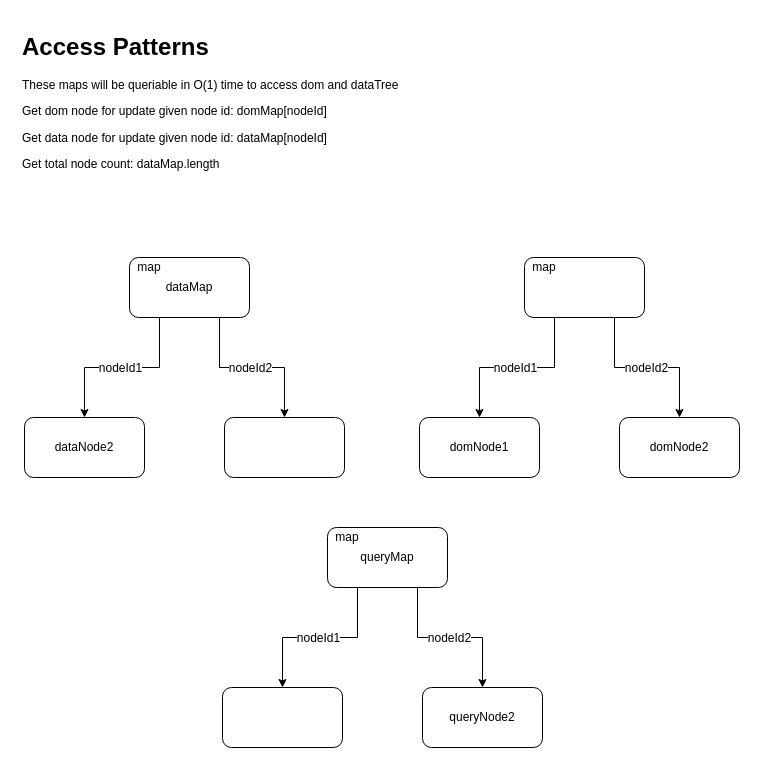
Some shapes in this 757 by 765 pixel diagram are drawn without their labels. Here are the shapes that lost their labels. From the top down, the box of each, then its label:
(524, 256, 644, 318): domMap
(224, 416, 344, 478): dataNode1
(222, 686, 342, 748): queryNode1
